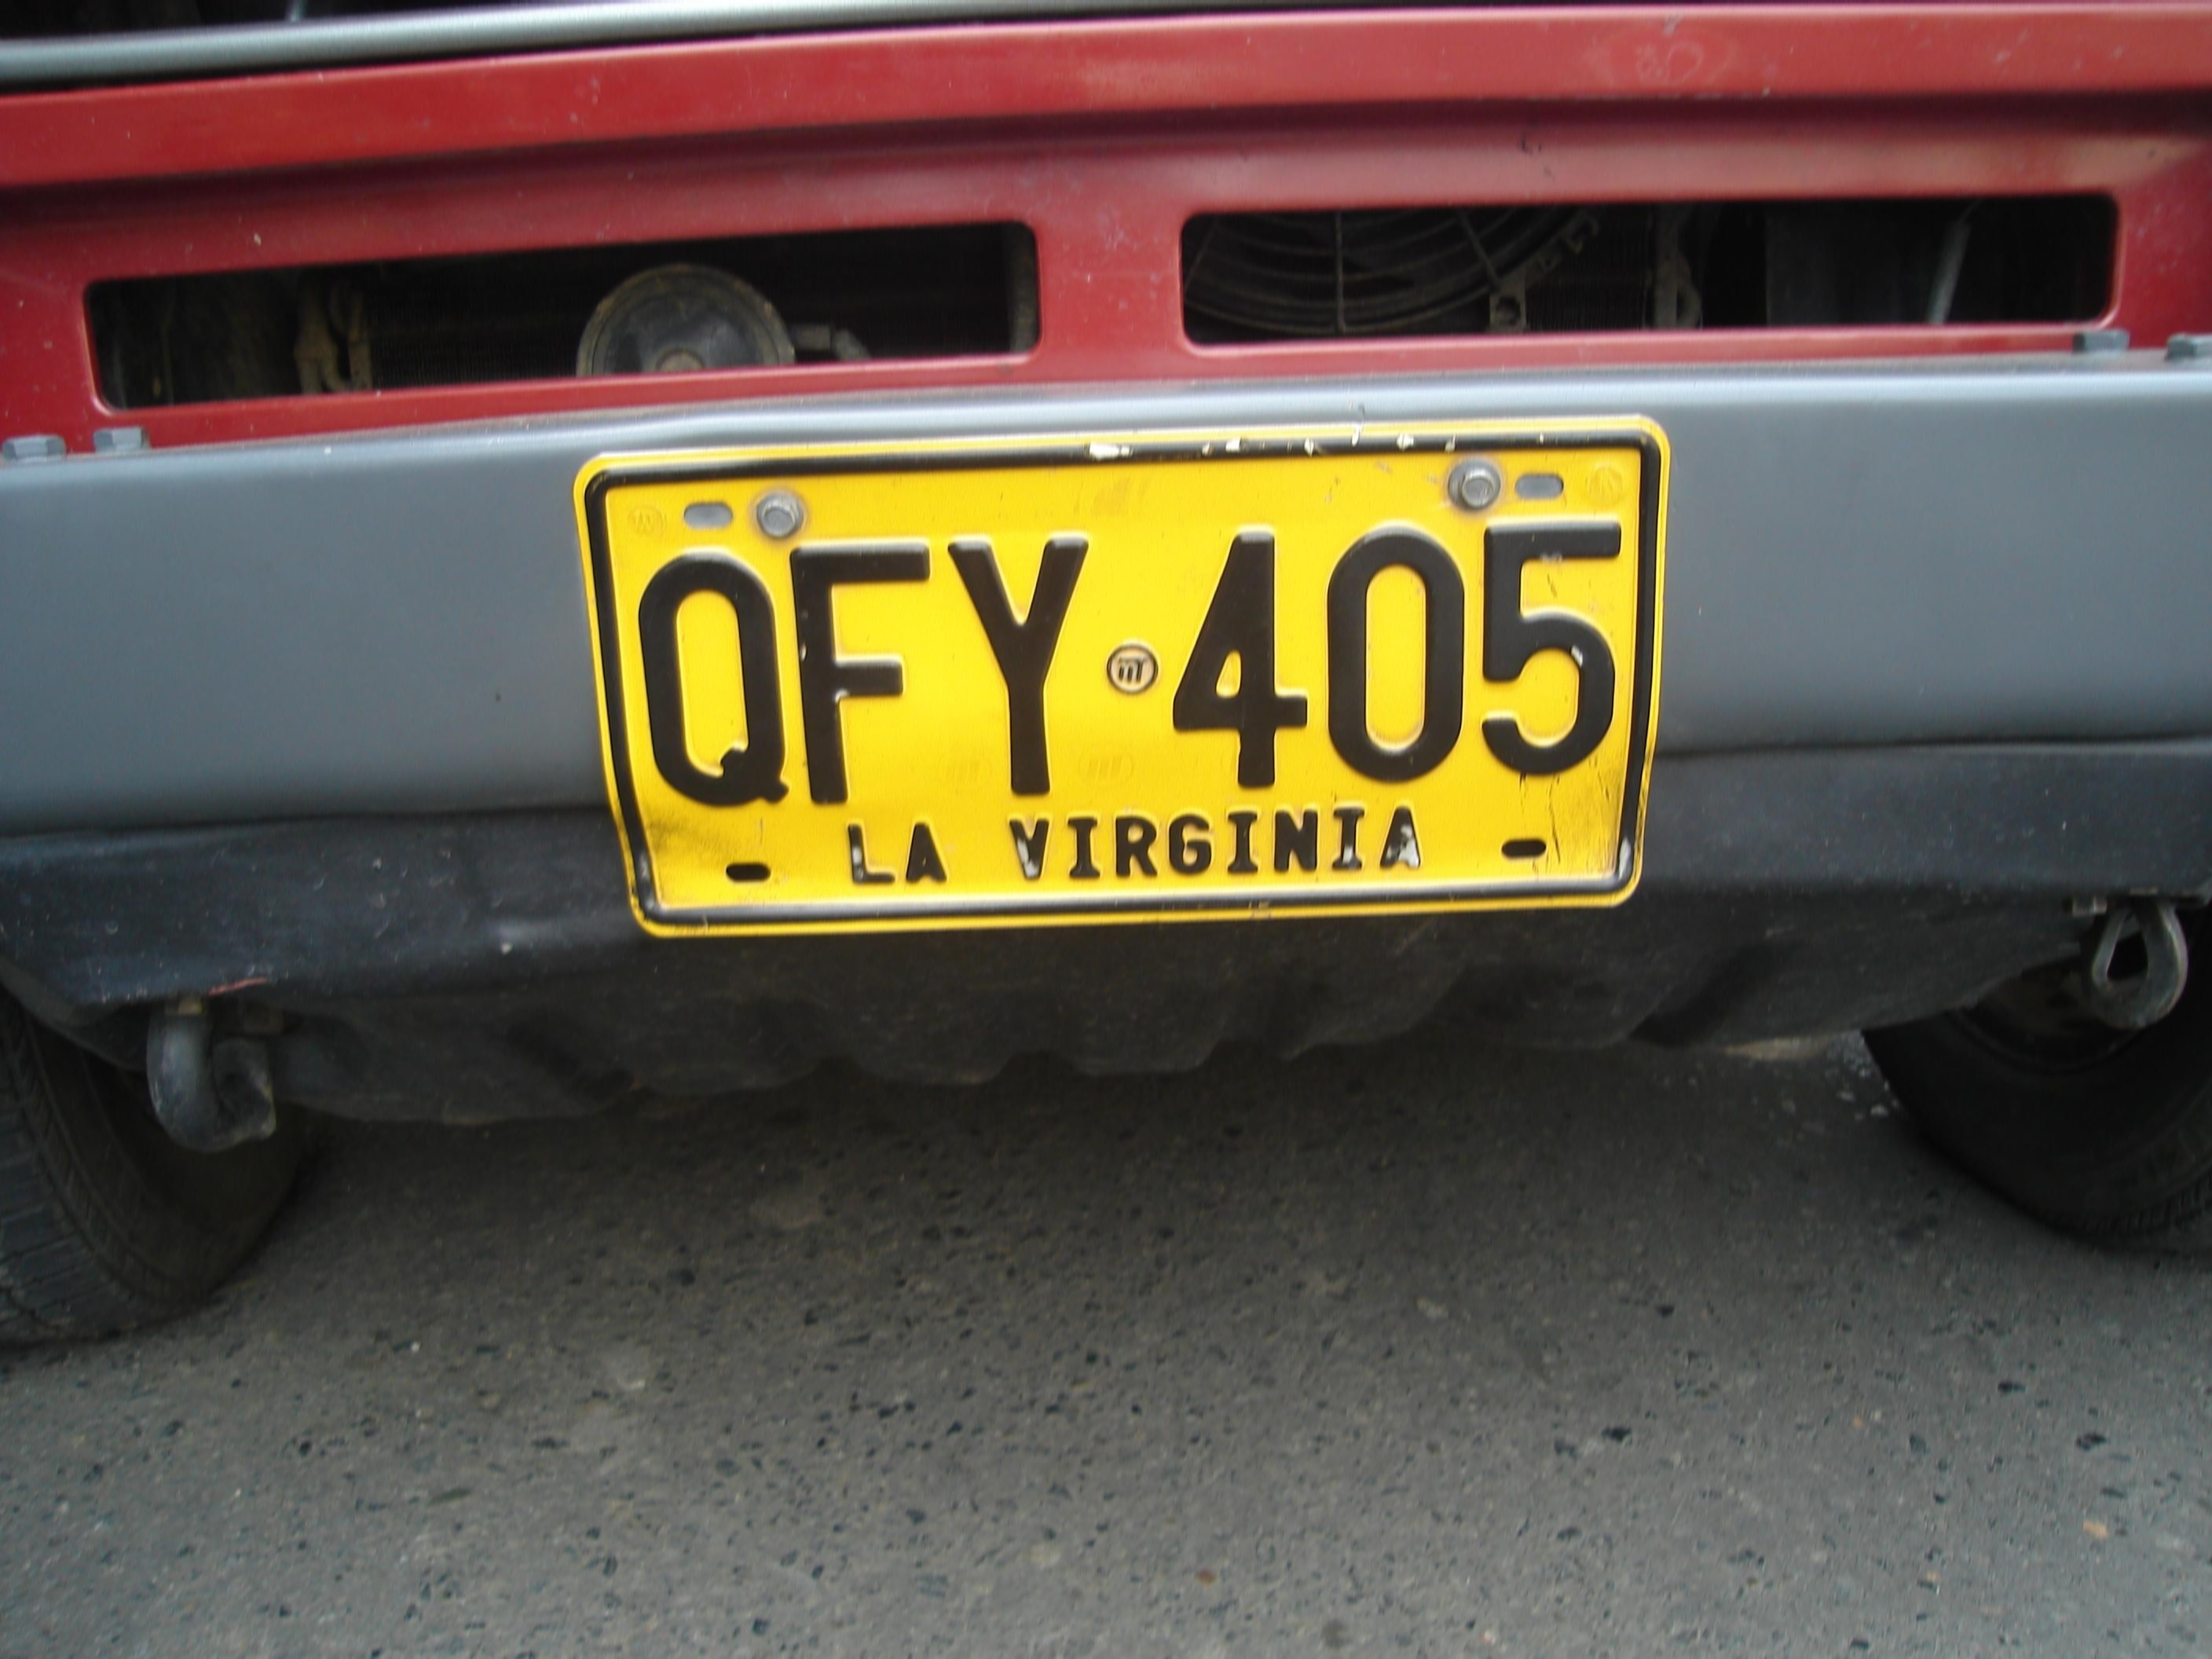placas: (543, 401, 1683, 938)
